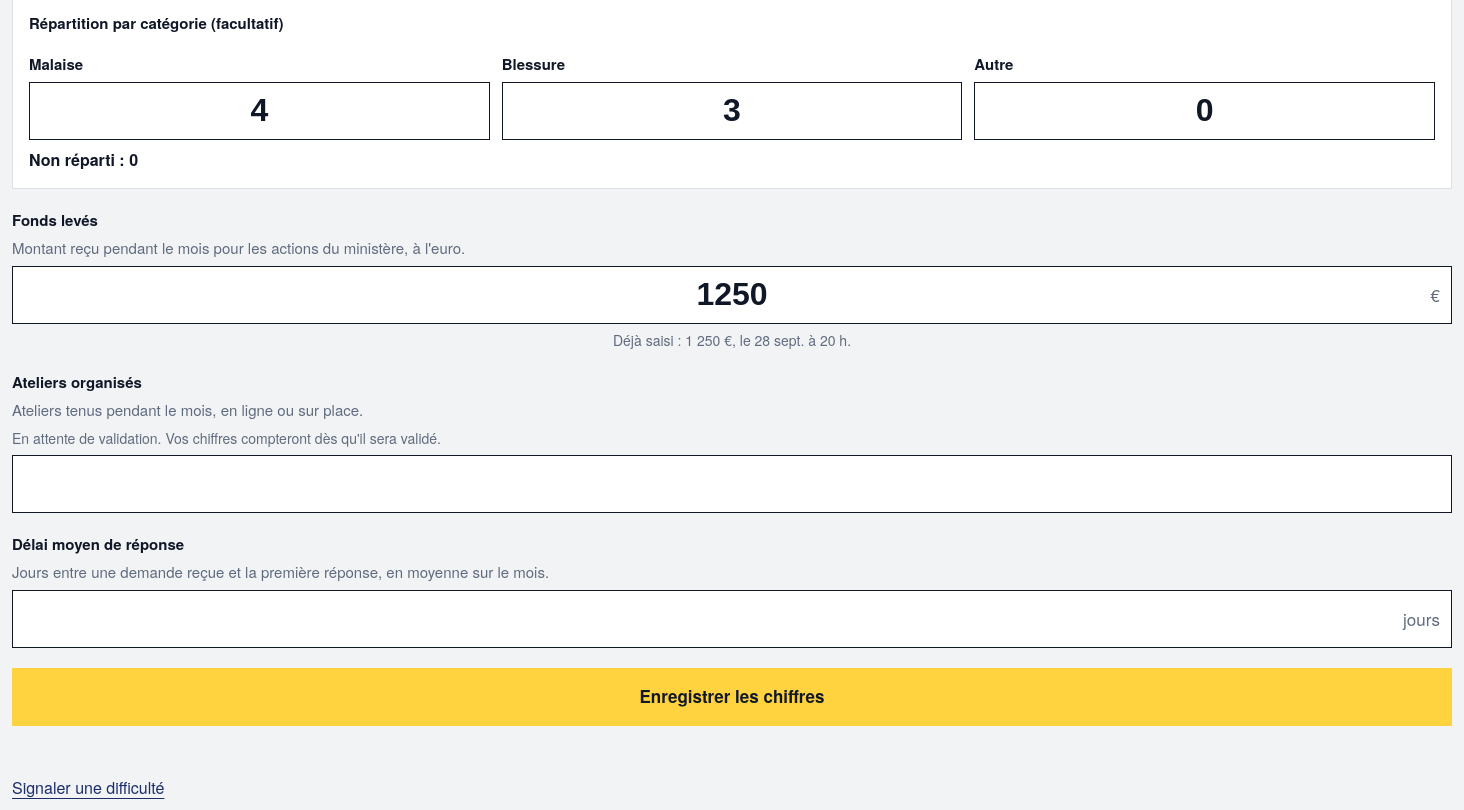
Scenario: FormulaireMois (« Chiffres du mois ») › correction : total, précision et grille repris ; sans y toucher, rien ne part
(page scrolled)
Expected: the field labelled "Malaise" holds "4", [29,82,490,140]
Expected: the field labelled "Blessure" holds "3", [502,82,962,140]
Click the button named "Enregistrer les chiffres": (732, 696) [12,668,1452,726]
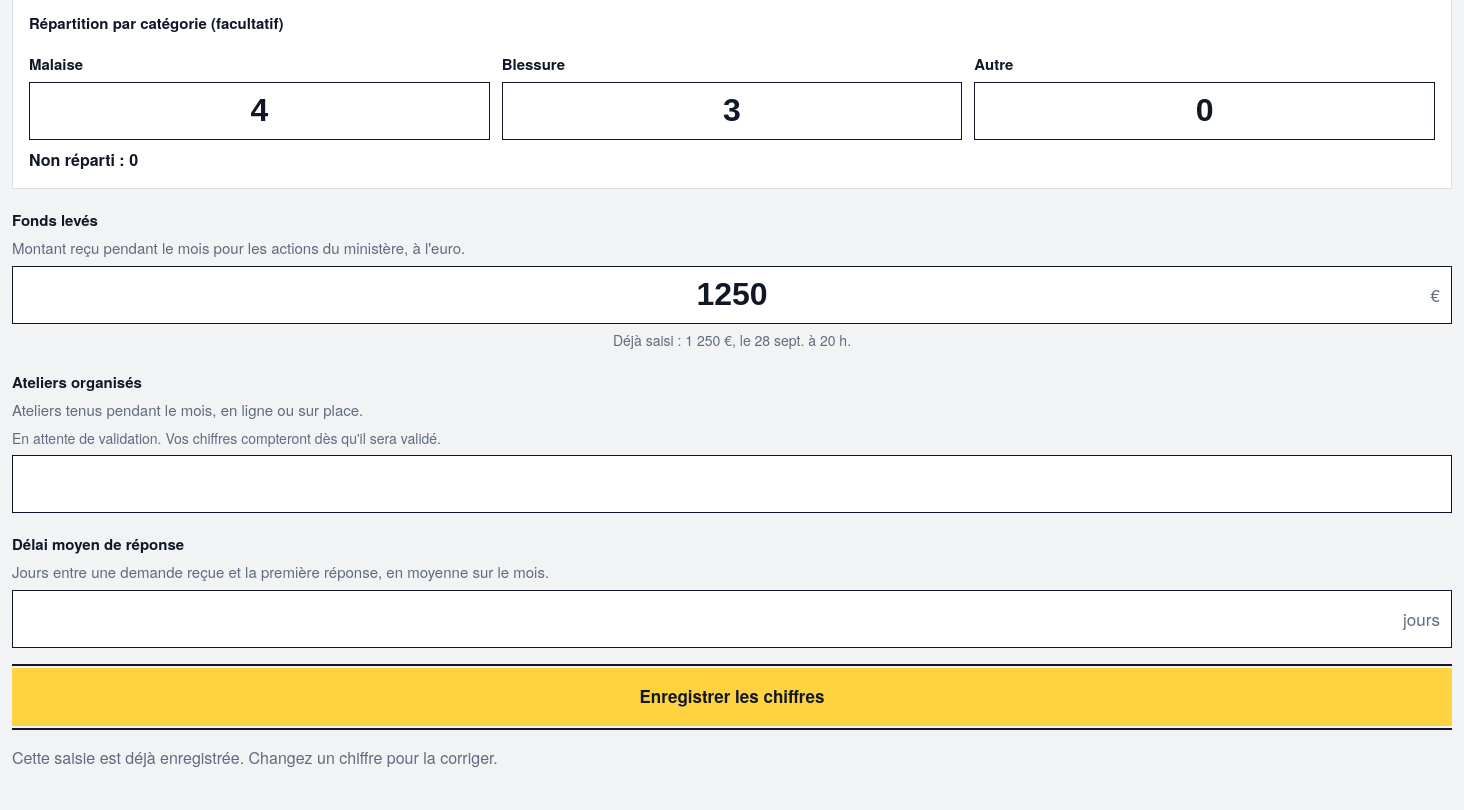
Now the text "Cette saisie est déjà enregistrée. Changez un chiffre pour la corriger." is shown, box [12,746,498,768]
